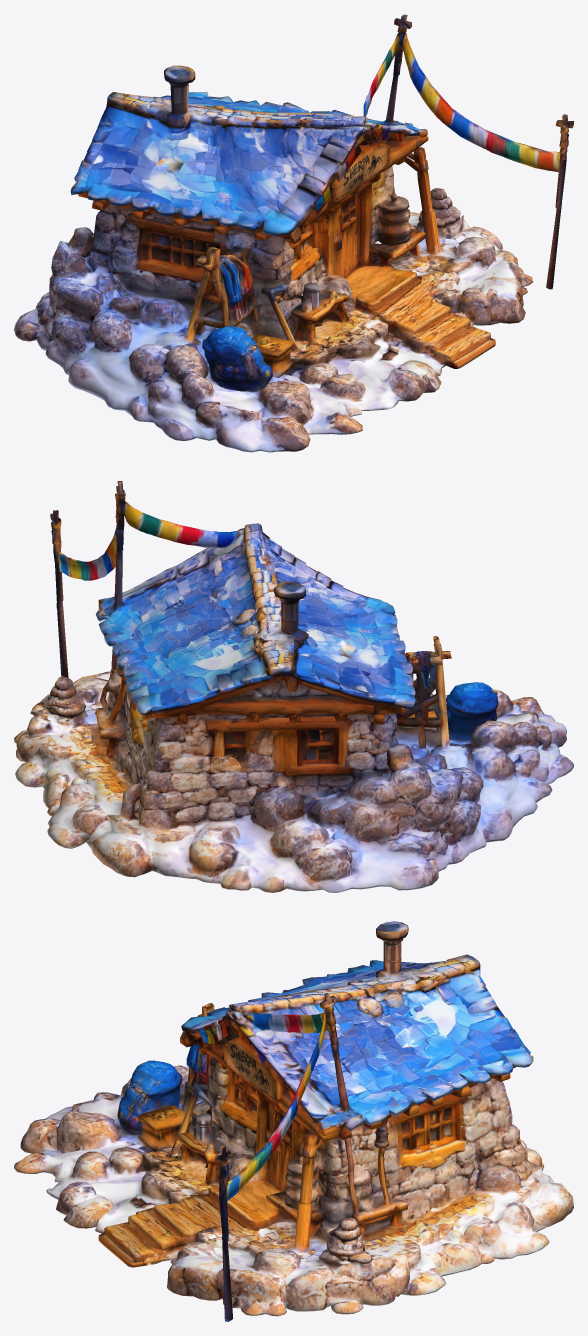
3 renders of one model, top to bottom at view 1: azimuth 30°, elevation 25°; view 2: azimuth 150°, elevation 25°; view 3: azimuth 270°, elevation 25°, orthographic. The views are drawn at different scales.
Visible parts, largest first — view 1: tripo_node_e97174b1; view 2: tripo_node_e97174b1; view 3: tripo_node_e97174b1.
Part boxes in pixels (box(x1,y1,x2,y2)): tripo_node_e97174b1: box(14, 14, 573, 452); tripo_node_e97174b1: box(14, 481, 573, 892); tripo_node_e97174b1: box(14, 921, 573, 1321).
Size of the model in its own units: 1 by 0.5497 by 0.9782.
1 material, 1 textured.
